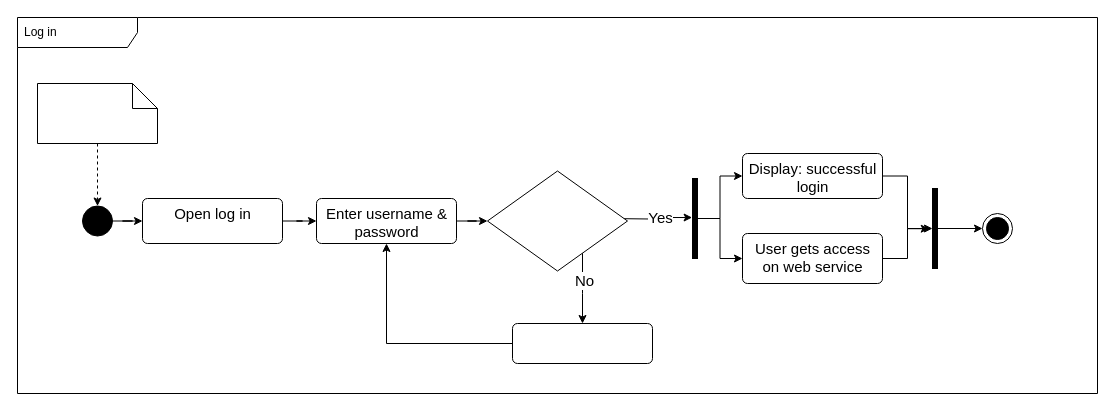
The diagram is 1115 pixels wide and 411 high, and some of its shapes have lost their labels. The centre of each missing label's shape, as x and y in pixels:
"Display: Invalid login" belongs at point 582,343.
"User is registered" belongs at point 97,113.
"Valid username & password?" belongs at point 557,220.
